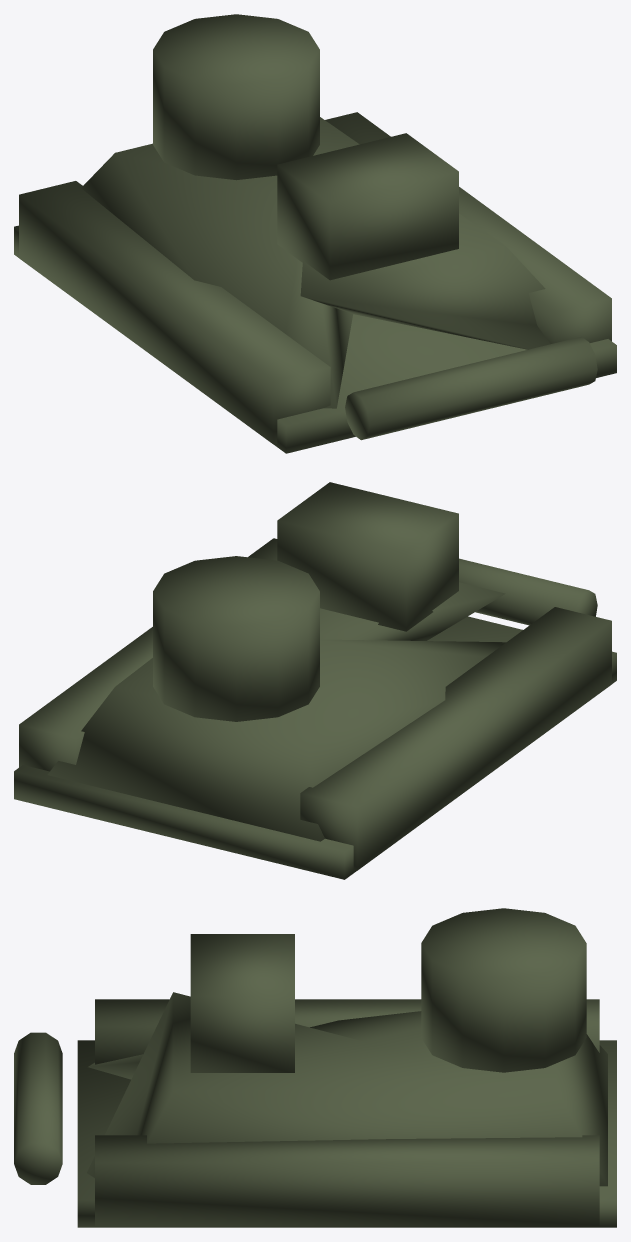
File: harvester_lod1.obj
3 renders of one model, top to bottom at view 1: azimuth 30°, elevation 25°; view 2: azimuth 150°, elevation 25°; view 3: azimuth 270°, elevation 25°, orthographic.
Visible parts, largest first — view 1: harvester_lod1; view 2: harvester_lod1; view 3: harvester_lod1.
Boxes of the visible parts, box(x1,y1,x2,y2) form: harvester_lod1: box(14, 14, 616, 453); harvester_lod1: box(14, 482, 616, 879); harvester_lod1: box(14, 908, 616, 1227).
Bounding box in the file's own units: 4.45 × 2.59 × 6.93.
